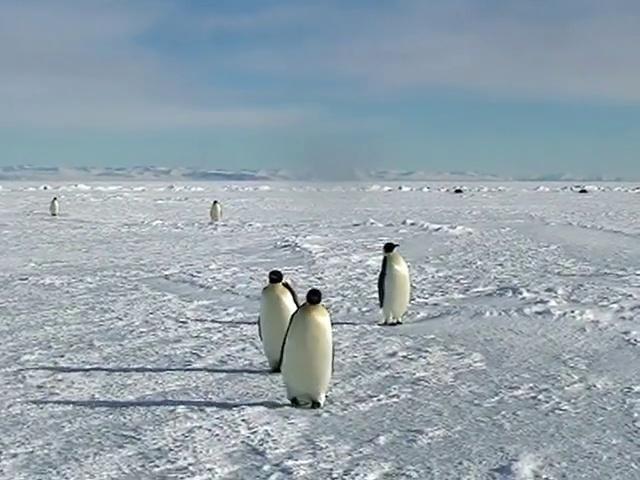animal: (378, 242, 409, 323)
